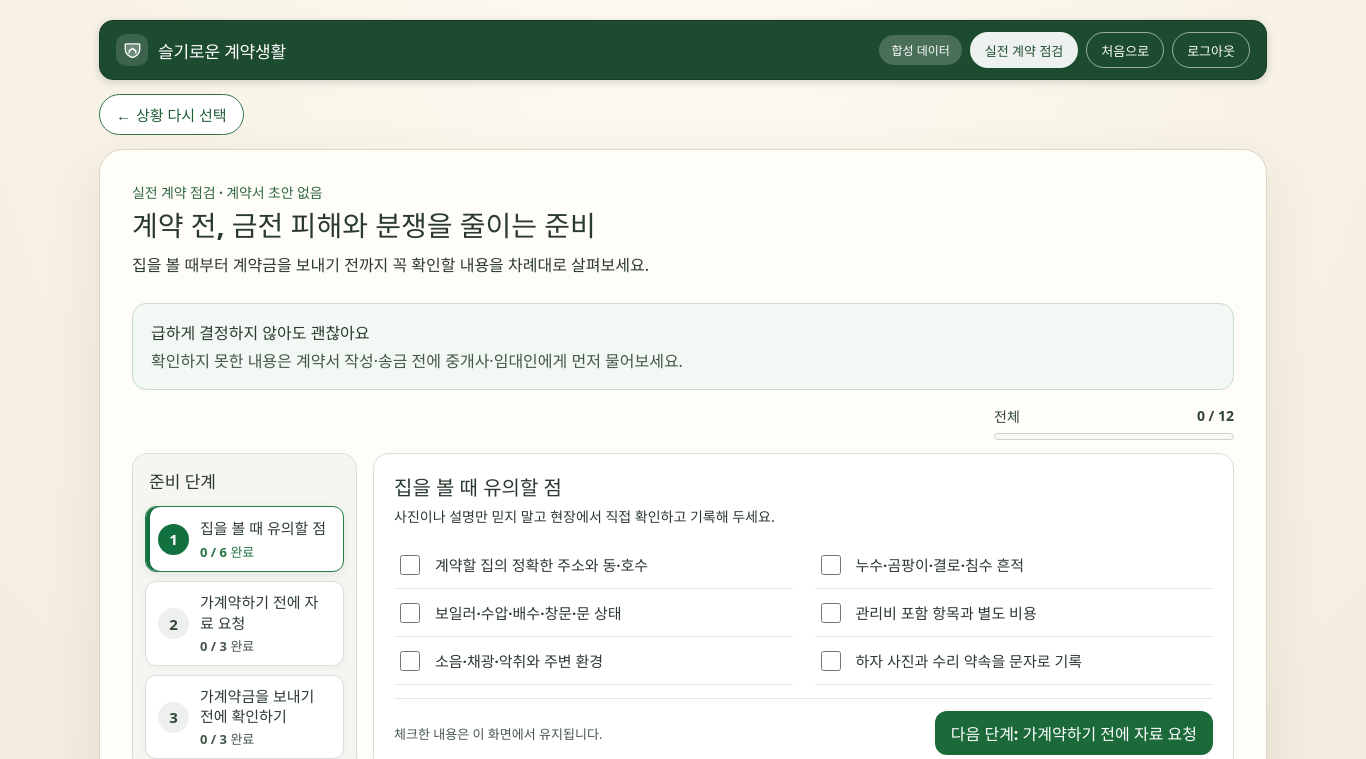
Test case: ContractPreparationPage › shows an alert when copying the draft request is rejected
Click the button "2 가계약하기 전에 자료 요청 0 / 3 완료" at x=244, y=624, box left=145, top=581, right=344, bottom=666
(page scrolled)
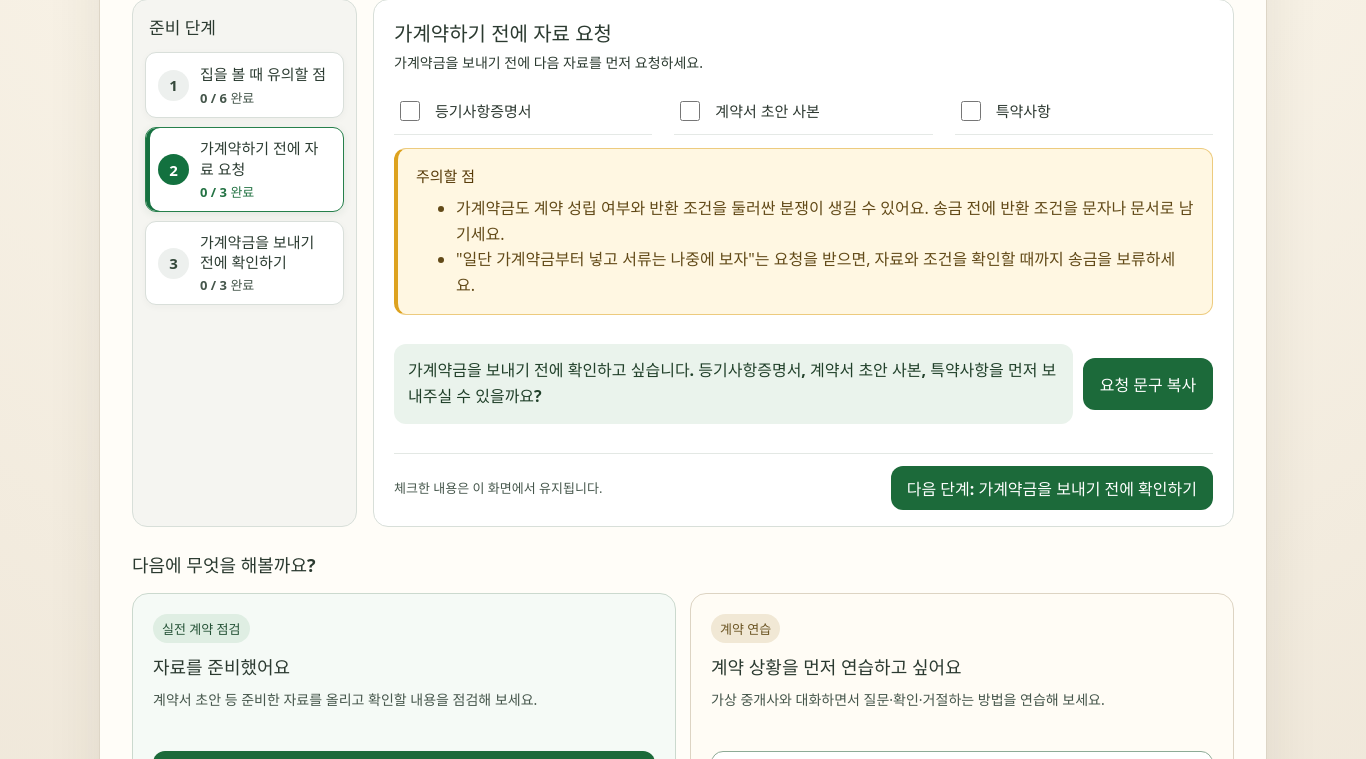
Click the button "요청 문구 복사" at x=1148, y=384, box left=1083, top=358, right=1213, bottom=410
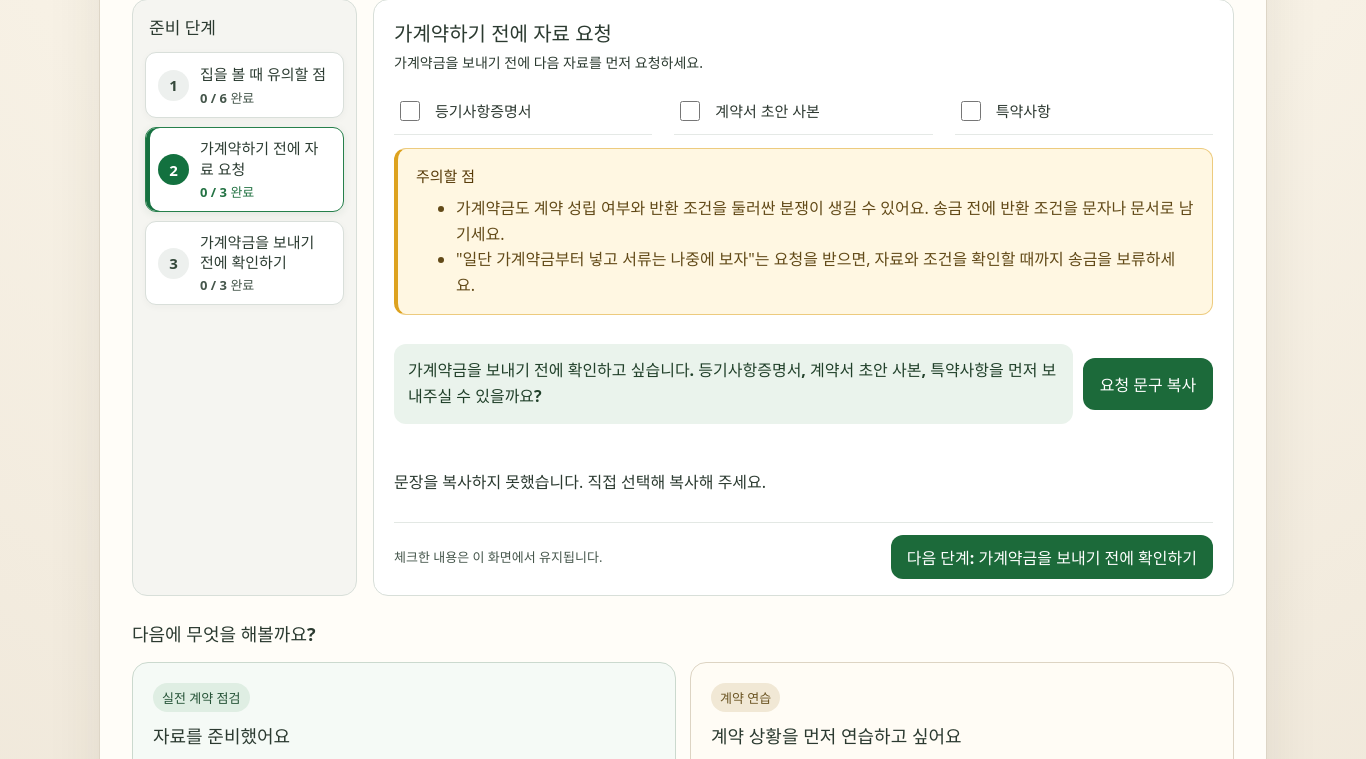
Result: the message reads "문장을 복사하지 못했습니다. 직접 선택해 복사해 주세요." at left=394, top=471, right=766, bottom=493
